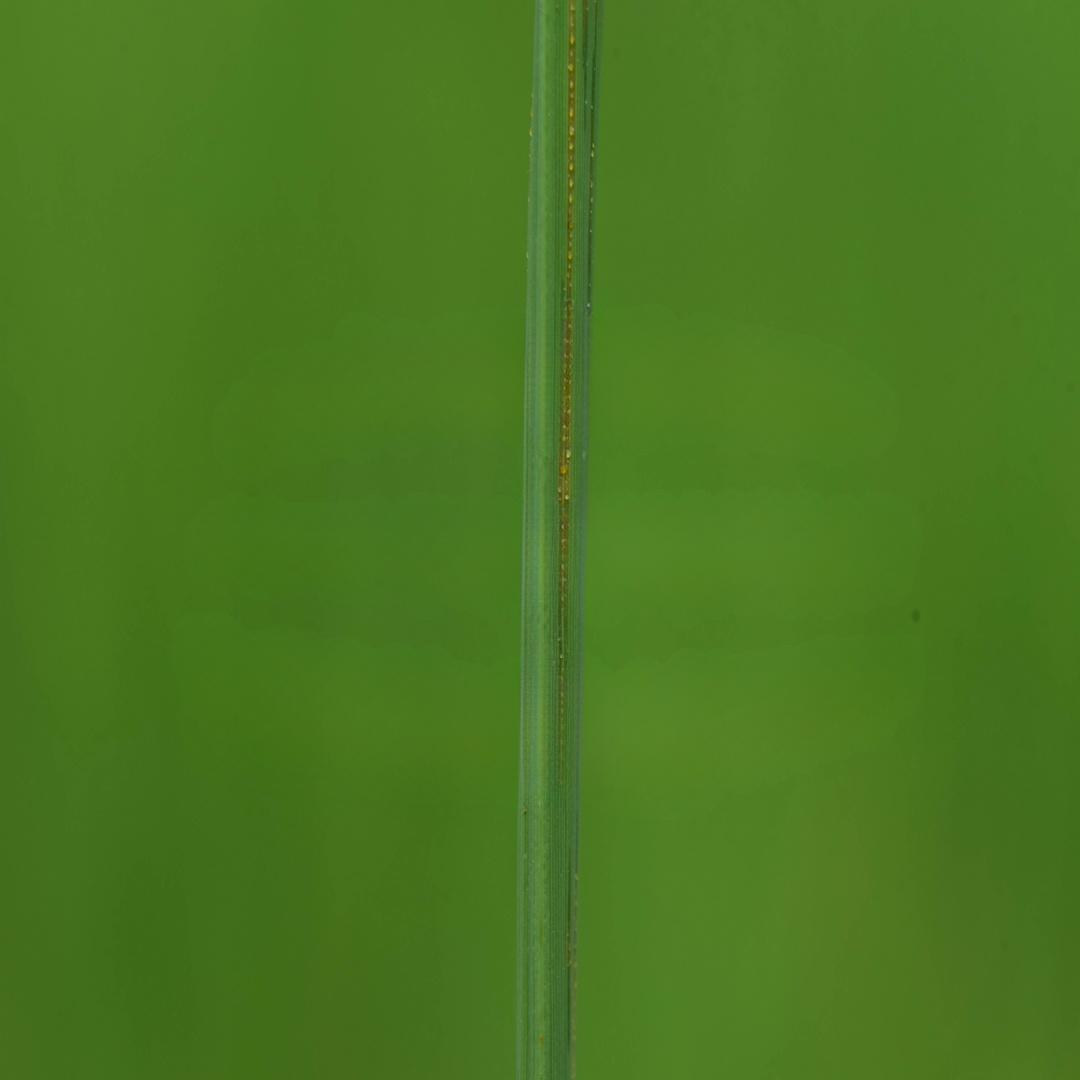BLS: (558, 1, 576, 733), (586, 0, 598, 317), (582, 0, 589, 134), (573, 873, 579, 990), (567, 928, 571, 968)
LEAF: (517, 0, 604, 1079)
